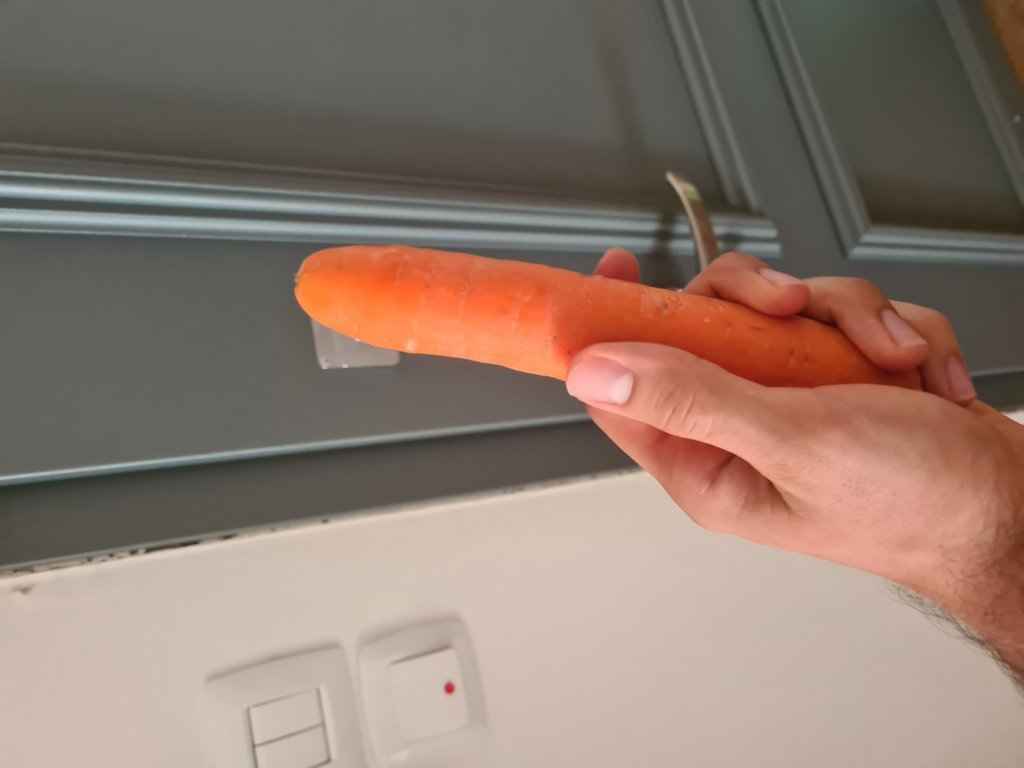carrot: (292, 249, 931, 412)
